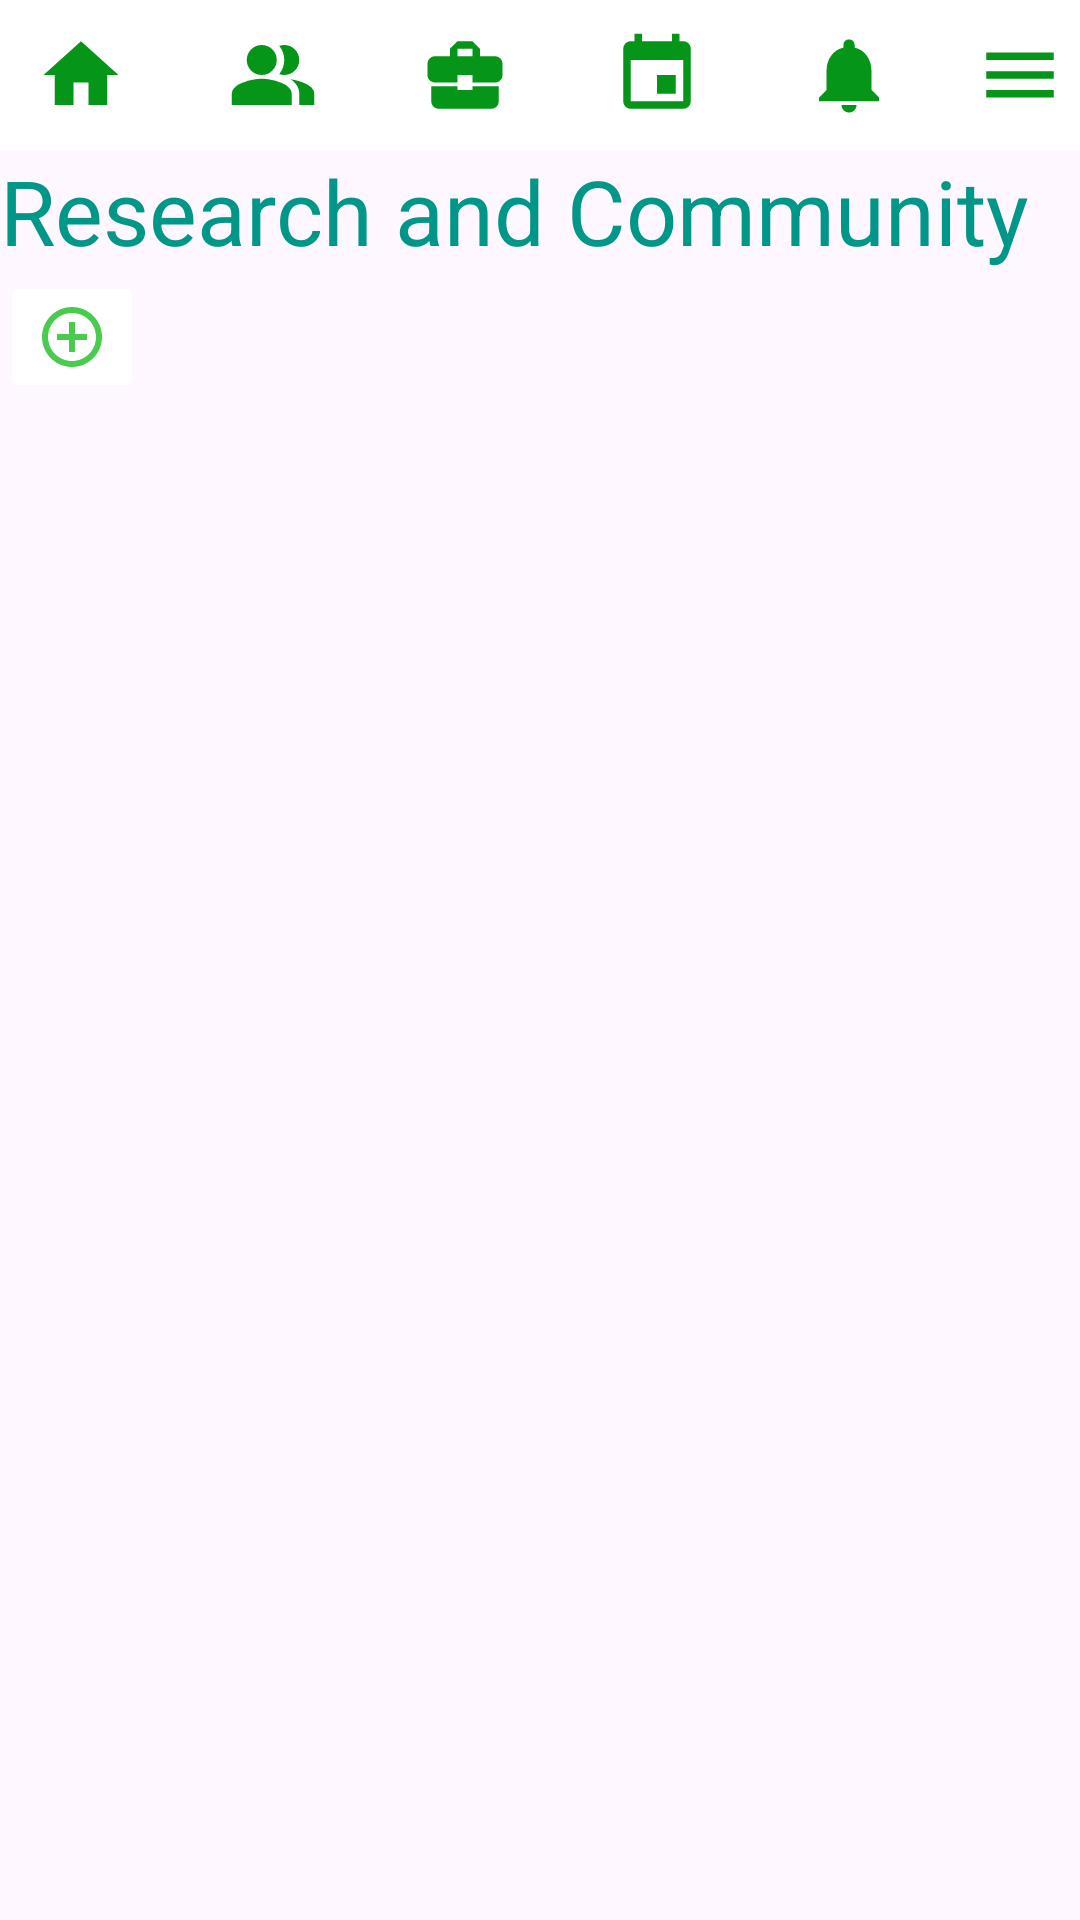

Icons on this 1080*1920 Android screen, each with its box as (x1,y1,x2,y2):
add circle: (42,307,102,367)
business center: (427,41,503,109)
event: (623,33,691,109)
home: (44,41,118,105)
menu: (986,52,1054,98)
notifications: (819,39,879,113)
people: (231,45,315,105)
